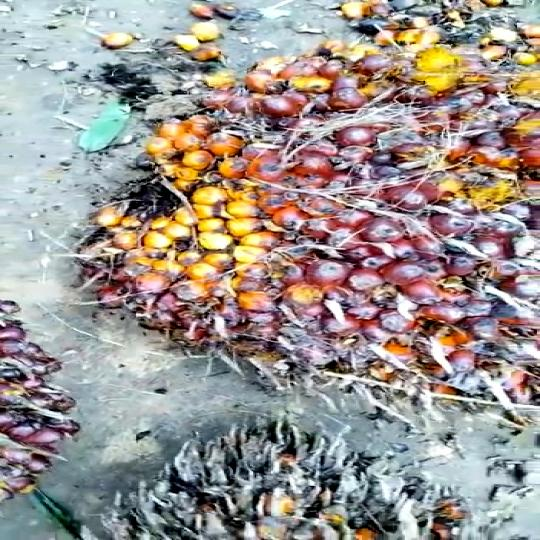masak: (87, 89, 540, 434)
